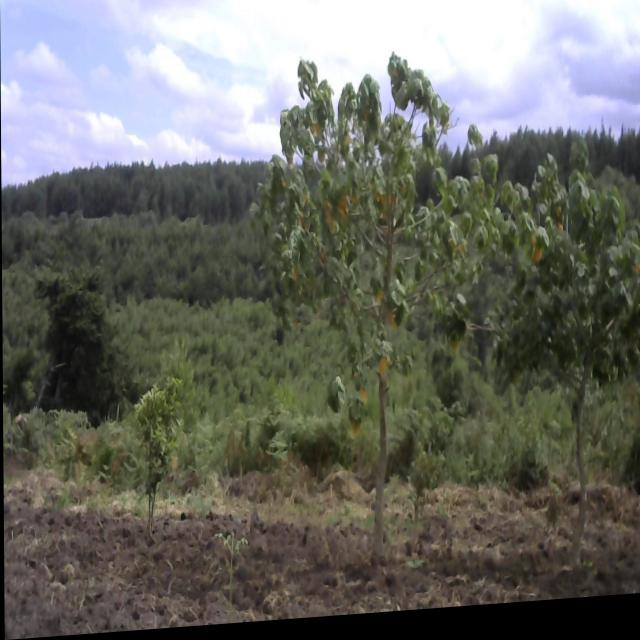Polyscias fulva: (254, 33, 509, 597), (472, 87, 640, 500)
other: (32, 244, 120, 405)
